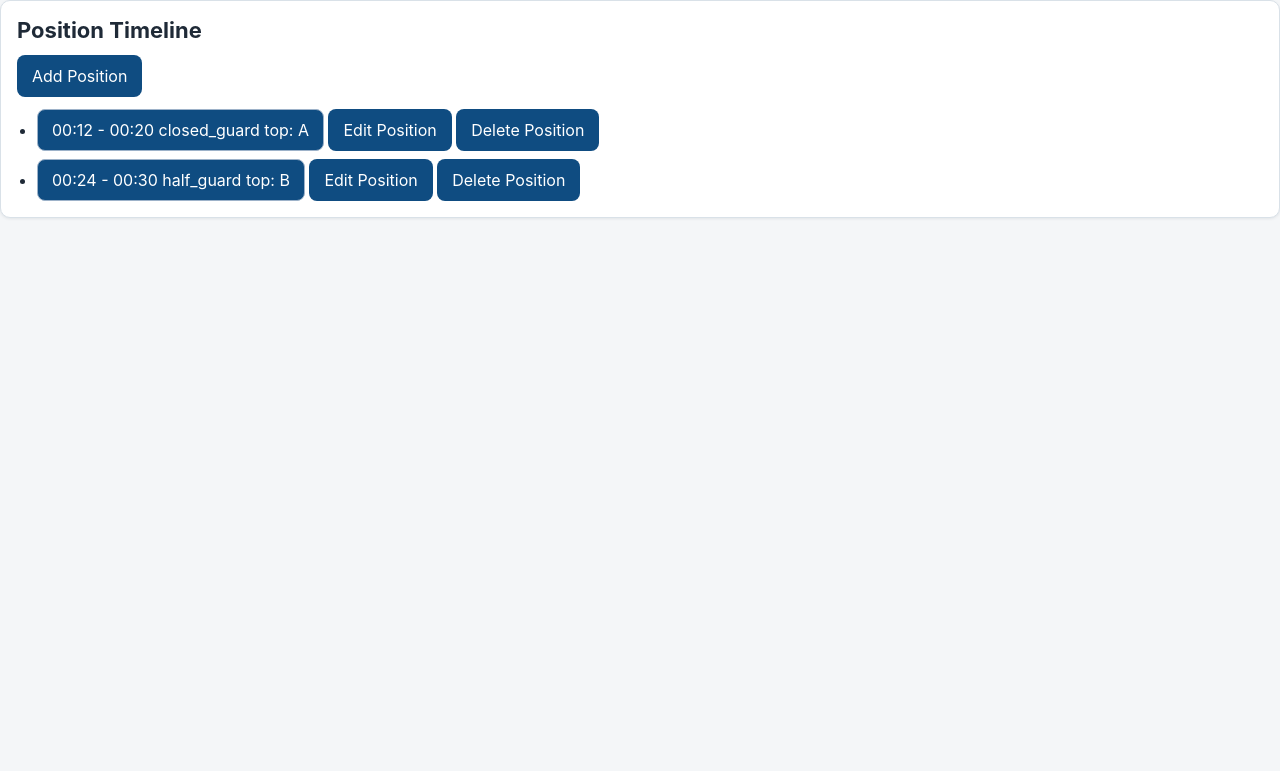
Scenario: PositionPanel › prefills adjacent timestamps when opening and reuses values after create
The image size is (1280, 771).
Click the button "Add Position" at (80, 76), box [17,55,142,97]
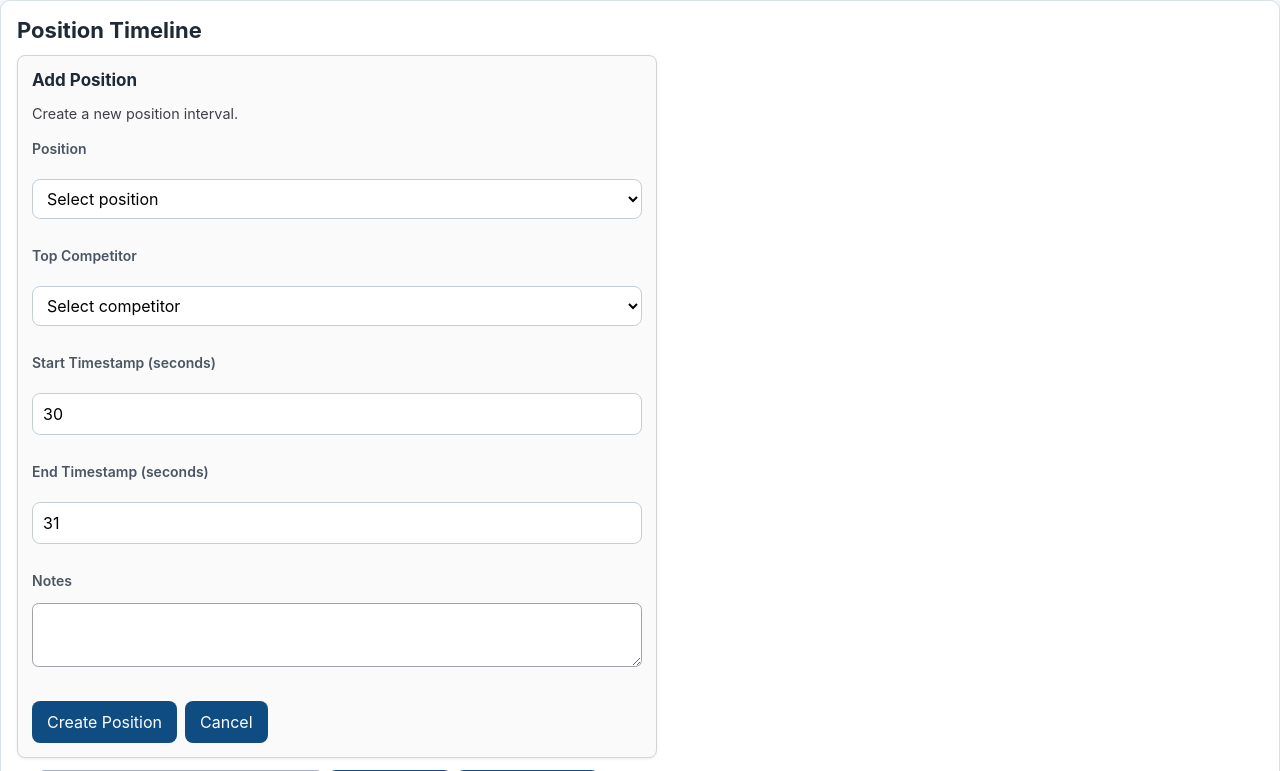
Check: the number field labelled "Start Timestamp (seconds)" holds "30", box [32,393,642,435]
Check: the number field labelled "End Timestamp (seconds)" holds "31", box [32,502,642,544]
Select "mount" in the dropdown labelled "Position" at (337, 199), box [32,179,642,219]
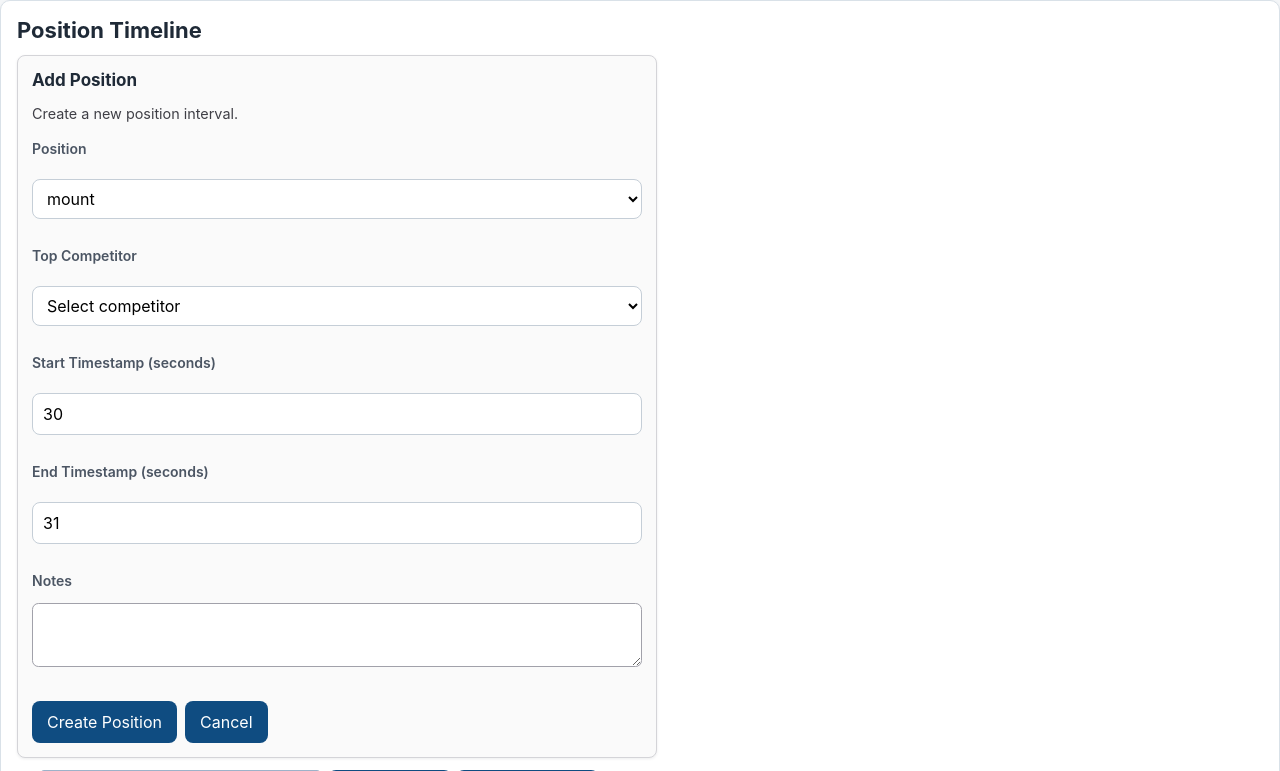
Select "B" in the dropdown labelled "Top Competitor" at (337, 306), box [32,286,642,326]
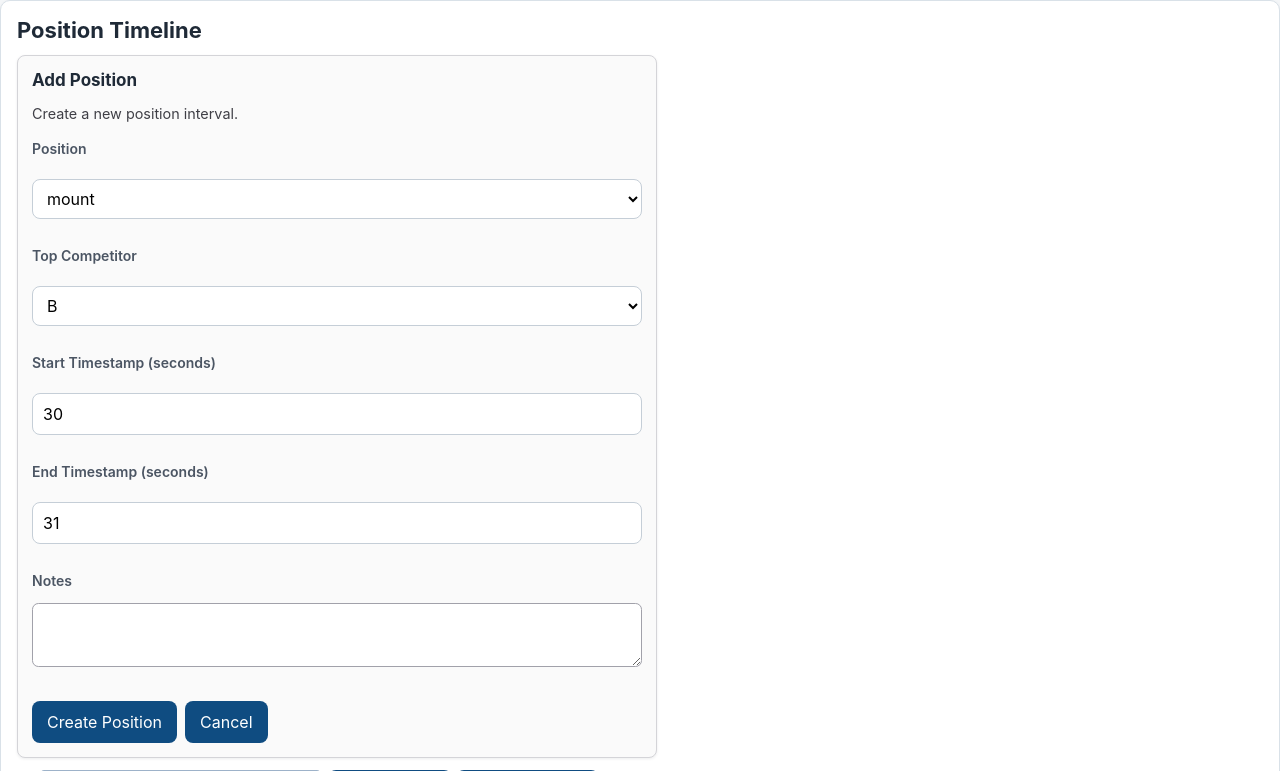
Replace the text in the number field labelled "End Timestamp (seconds)" with "36" at (337, 523), box [32,502,642,544]
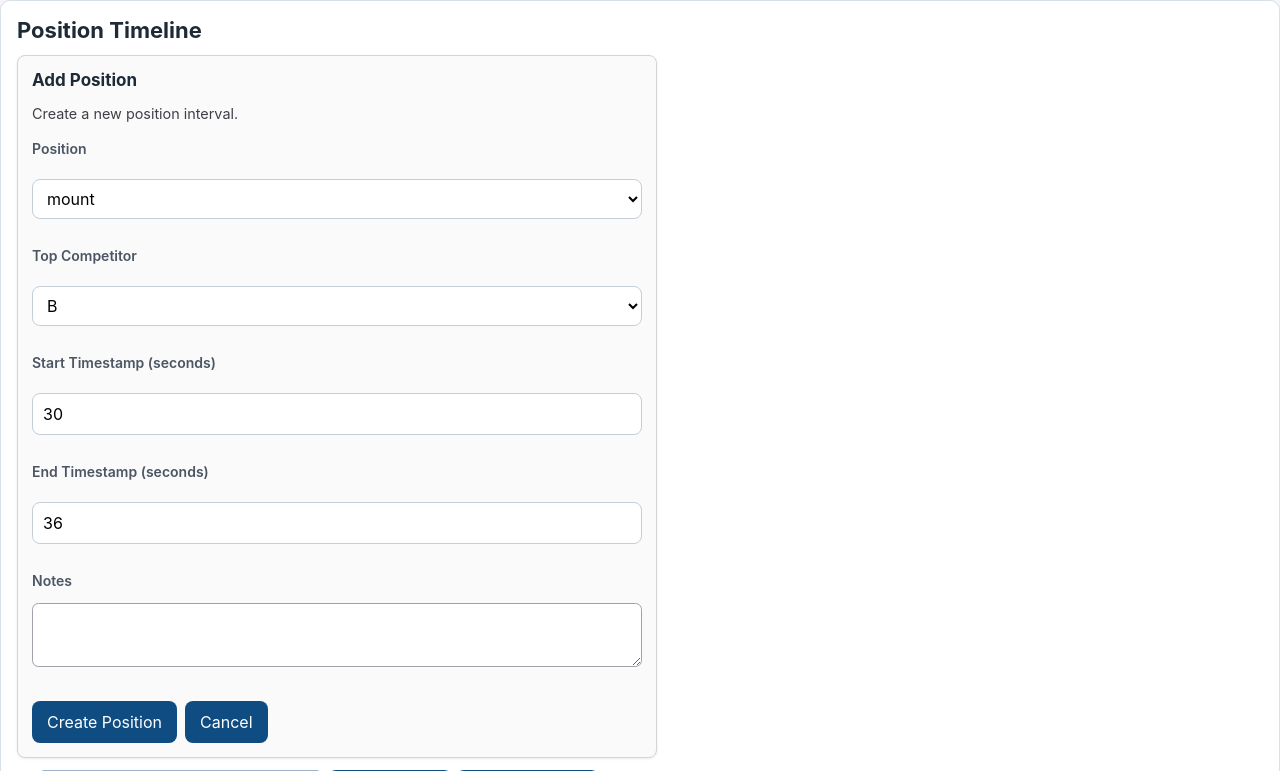
Click the button "Create Position" at (104, 722), box [32,701,177,743]
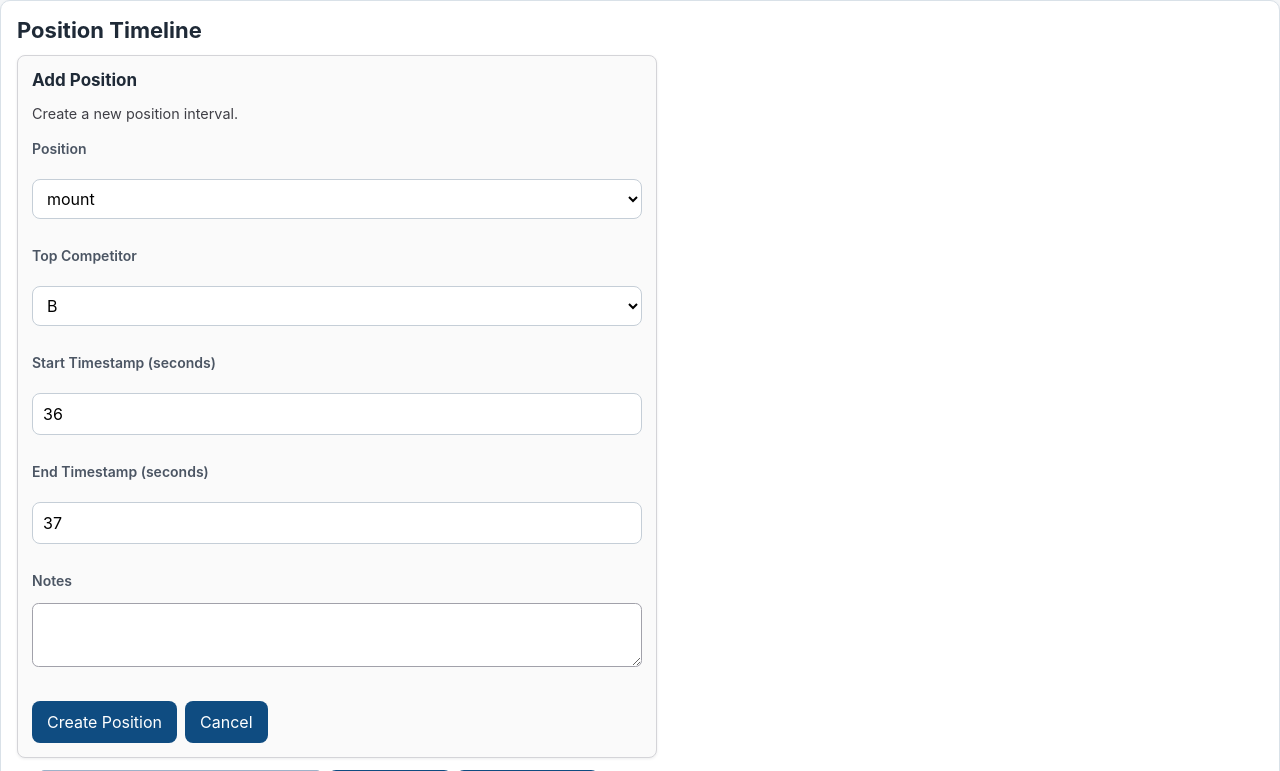
Check: the number field labelled "Start Timestamp (seconds)" holds "36", box [32,393,642,435]
Check: the number field labelled "End Timestamp (seconds)" holds "37", box [32,502,642,544]
